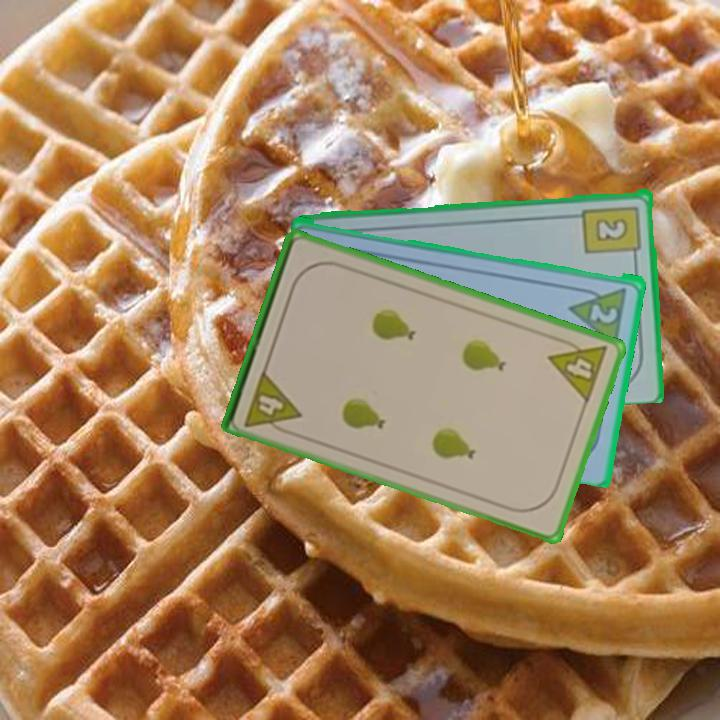2b: (580, 202, 644, 263)
2p: (587, 300, 621, 326)
4p: (545, 332, 611, 406), (241, 366, 304, 438)
